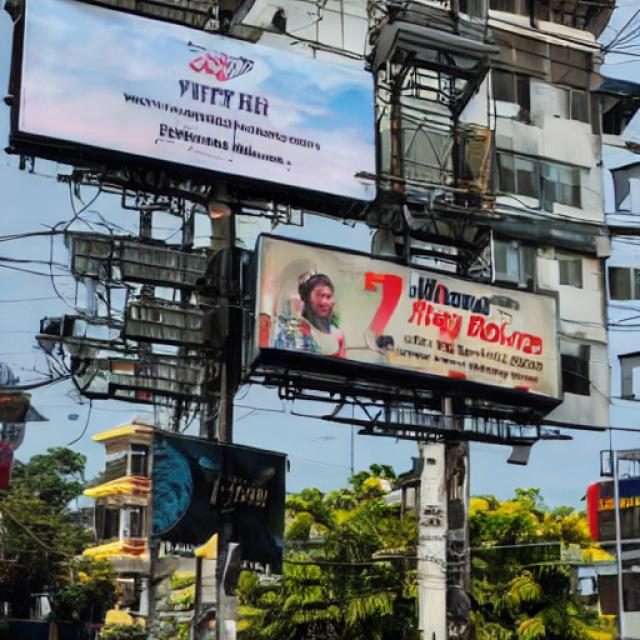Billboard: (10, 0, 381, 212), (250, 228, 562, 418)
